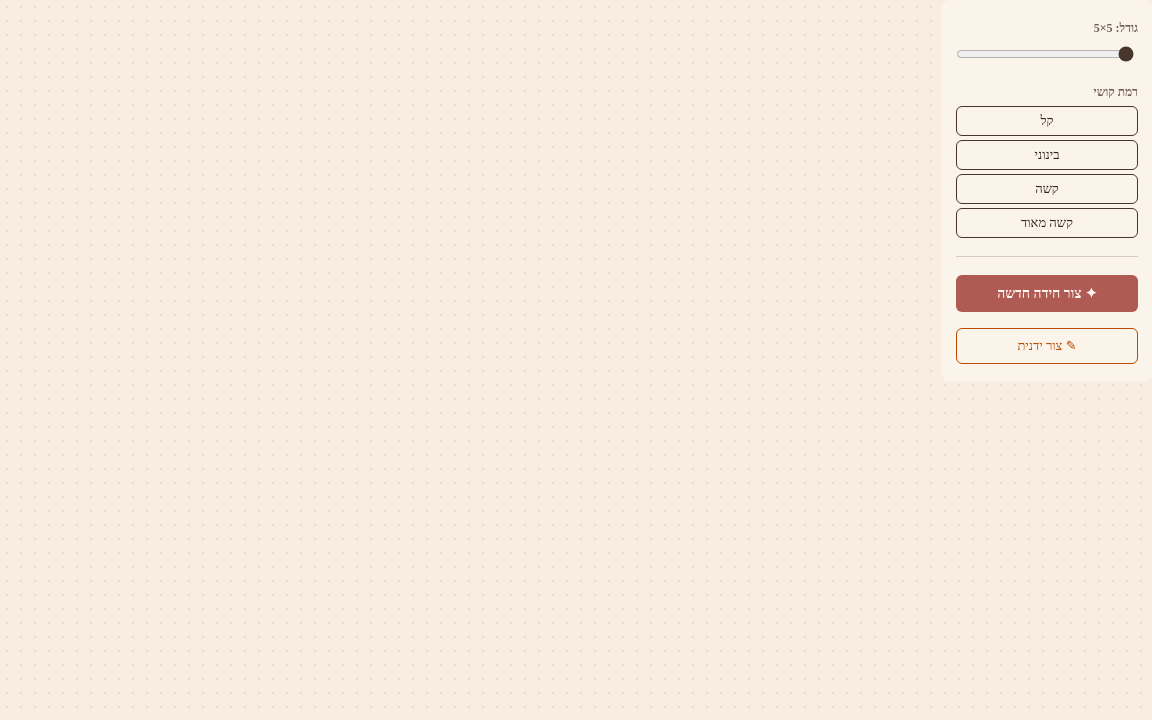
Test case: PuzzleSetupForm › shows a loading state and disables the button while generating
The width and height of the screenshot is (1152, 720).
Click the button "✦ צור חידה חדשה". click: (1047, 294)
box: [956,275,1138,312]
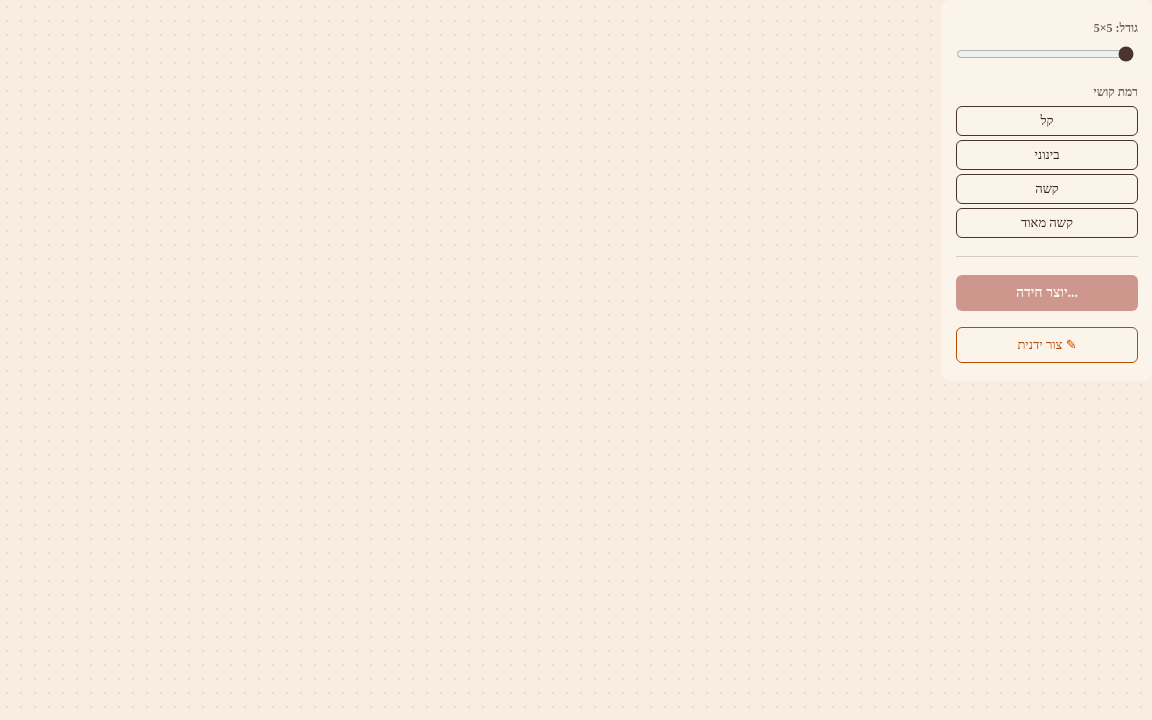
Check: the button "...יוצר חידה" is disabled, box [956,275,1138,311]
